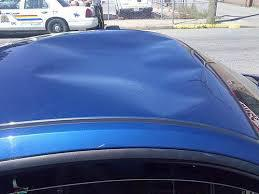roof-dent: (4, 27, 257, 146)
